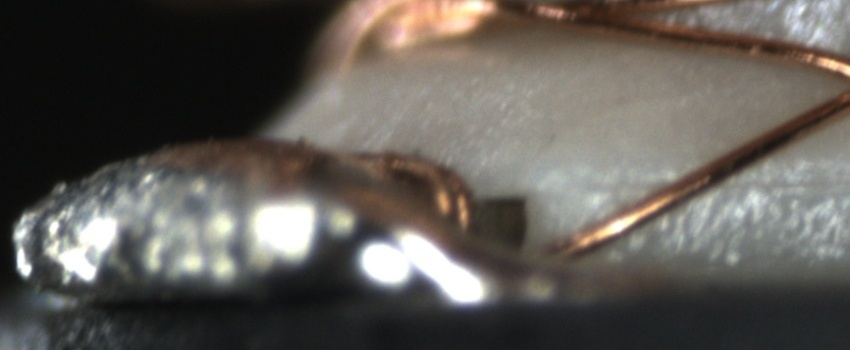CL: (829, 56, 850, 111)
DL: (572, 155, 849, 219)
TE: (343, 145, 483, 249)
